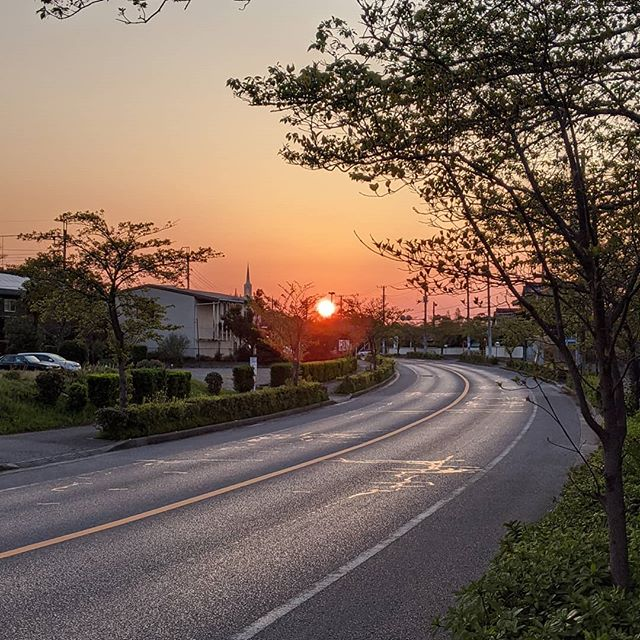building: (118, 270, 261, 360)
sky: (1, 1, 412, 294)
street: (1, 369, 583, 640)
sun: (310, 287, 345, 323)
tree: (316, 14, 640, 640), (8, 205, 191, 429)
